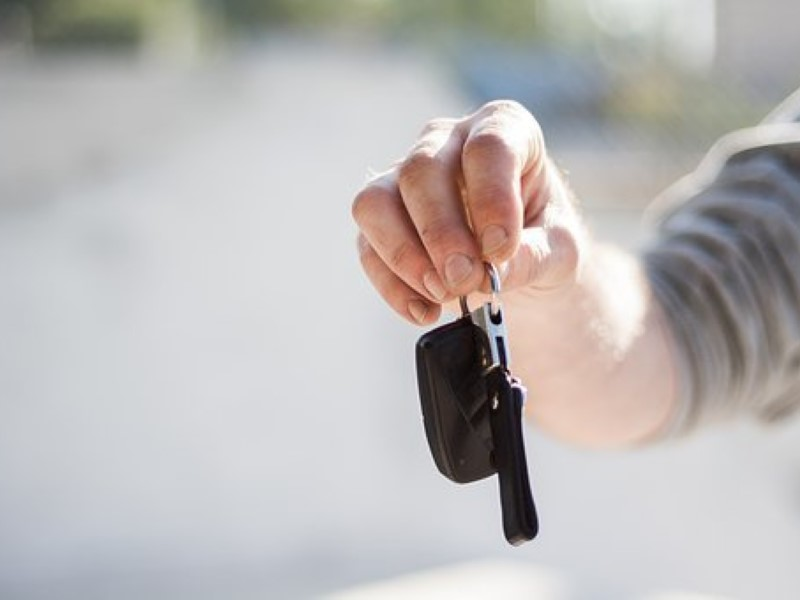carkey: (409, 303, 519, 489)
